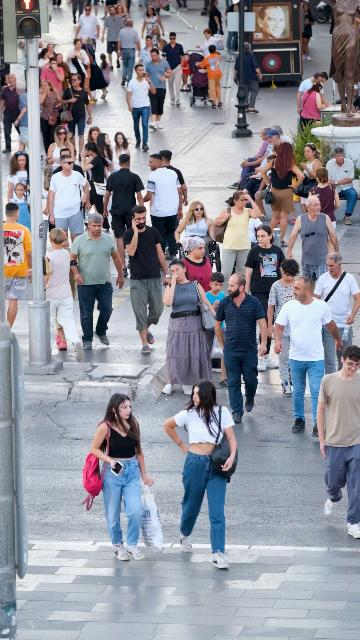person: (163, 380, 239, 569), (274, 276, 345, 438), (91, 393, 154, 562), (315, 344, 360, 539), (214, 273, 269, 425), (160, 258, 217, 396), (69, 213, 125, 352), (123, 205, 171, 356), (244, 225, 288, 371), (313, 252, 360, 375), (43, 228, 85, 362), (286, 194, 340, 294), (102, 153, 145, 277), (266, 259, 302, 398), (261, 142, 305, 248), (214, 190, 262, 282), (143, 153, 183, 258), (46, 155, 91, 246), (3, 202, 33, 328), (225, 155, 276, 222), (236, 130, 282, 195), (229, 128, 275, 189), (60, 73, 92, 160), (126, 64, 157, 152), (80, 142, 109, 233), (325, 147, 358, 226), (174, 200, 218, 255), (145, 49, 173, 130), (294, 142, 323, 217), (65, 38, 96, 105), (46, 124, 76, 192), (308, 167, 340, 230), (234, 42, 262, 114), (180, 235, 214, 294), (38, 79, 62, 156), (161, 32, 185, 107), (196, 45, 223, 109), (158, 150, 188, 206), (117, 19, 141, 86), (100, 5, 124, 71), (299, 82, 329, 133), (297, 71, 328, 114), (6, 151, 30, 205), (73, 6, 100, 51), (9, 182, 32, 233), (49, 148, 86, 178), (141, 6, 165, 51), (14, 89, 30, 154), (205, 272, 229, 312), (39, 57, 65, 93), (83, 127, 100, 182), (195, 29, 224, 58), (137, 36, 156, 80), (81, 35, 99, 80), (94, 133, 114, 173), (206, 0, 224, 37), (54, 54, 70, 93), (114, 132, 131, 166), (99, 54, 111, 99), (181, 53, 193, 92)
